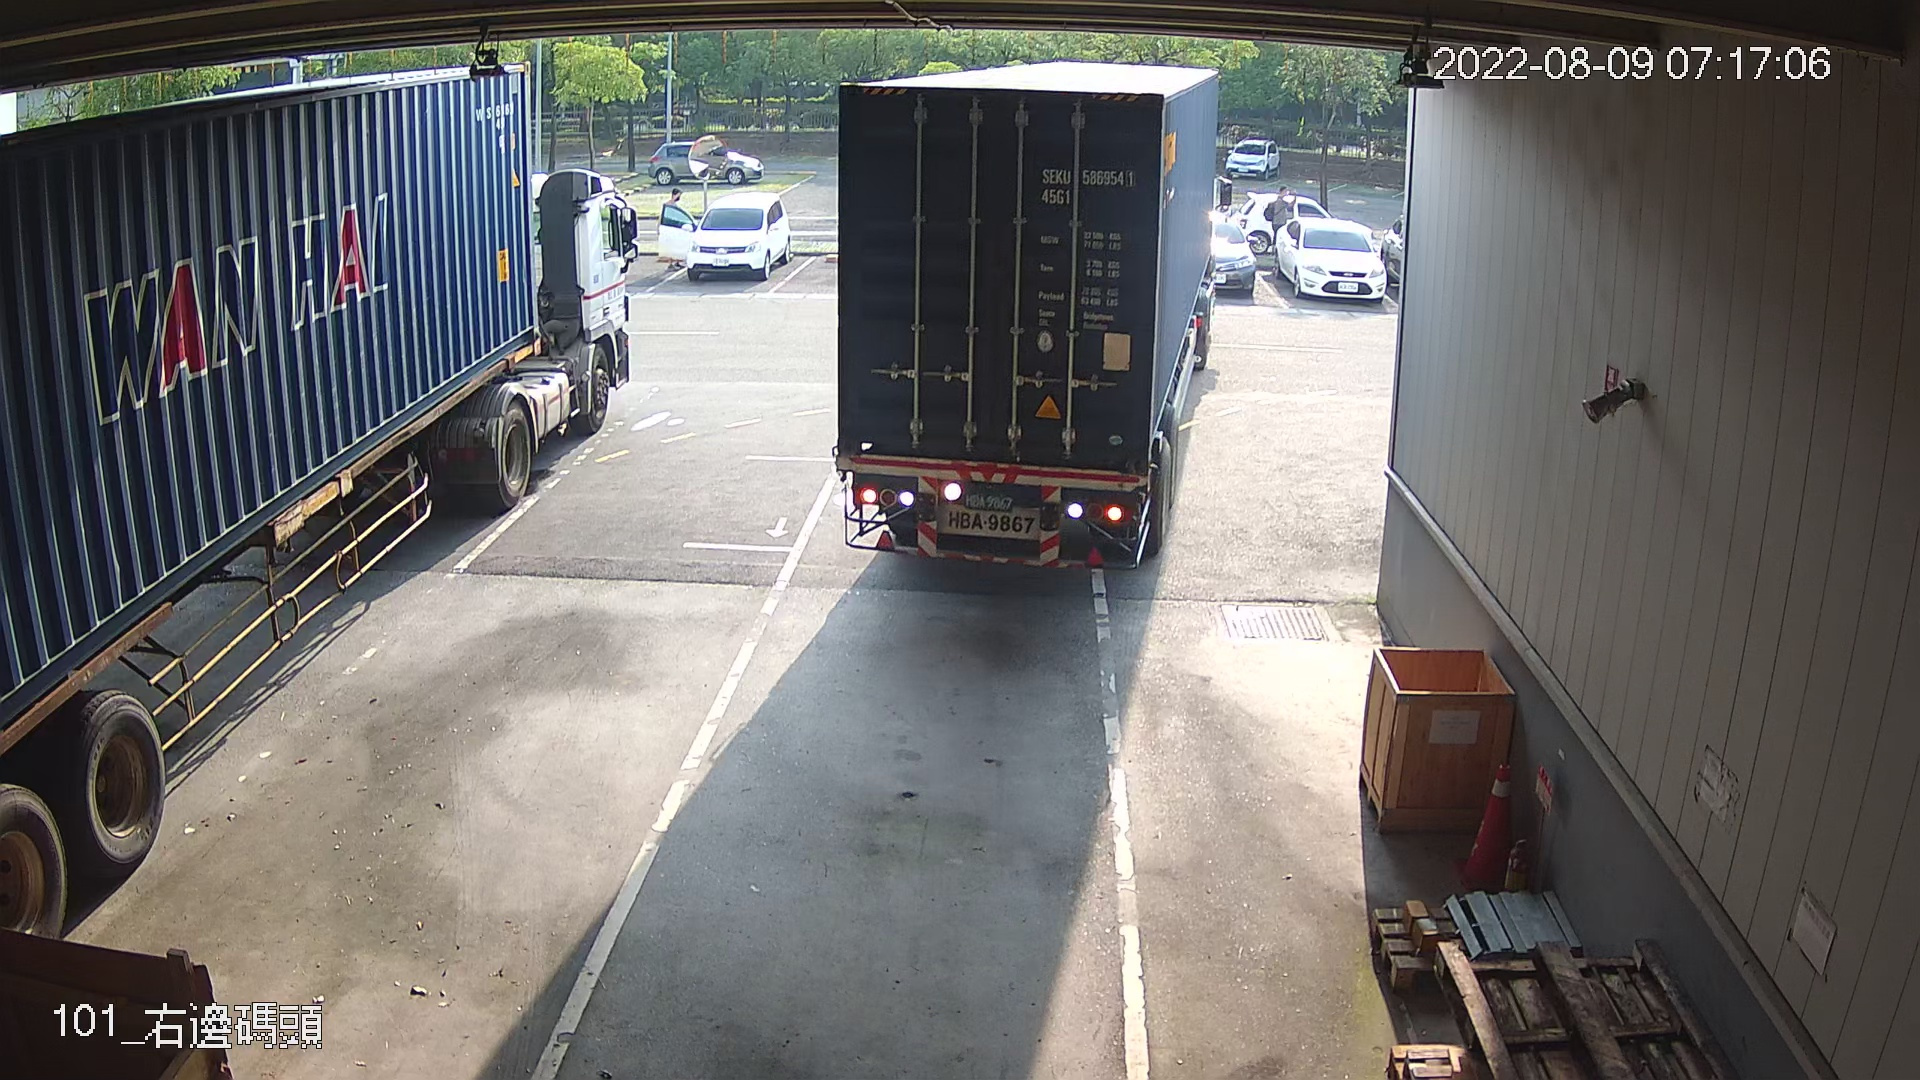container: (1034, 157, 1141, 214)
